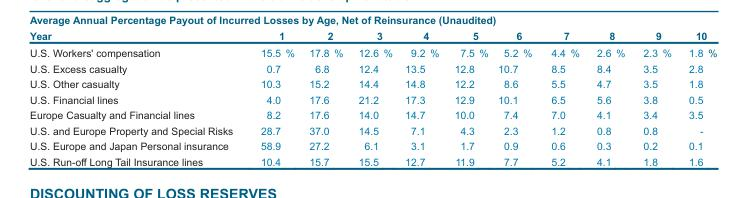table: (29, 29, 716, 166)
table column: (29, 29, 246, 166), (246, 29, 301, 166), (301, 29, 350, 166), (350, 29, 398, 166), (398, 29, 446, 166), (492, 29, 540, 166), (540, 29, 587, 166), (446, 29, 492, 166), (587, 29, 633, 166), (633, 29, 679, 166), (679, 29, 716, 166)
table column header: (29, 29, 716, 43)
table row: (29, 43, 716, 60), (29, 75, 716, 91), (29, 106, 716, 122), (29, 137, 716, 153), (29, 60, 716, 75), (29, 91, 716, 106), (29, 122, 716, 137), (29, 29, 716, 43), (29, 153, 716, 166)
